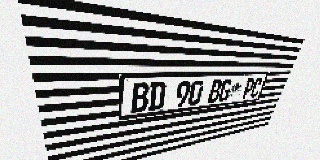0: (187, 80, 204, 106)
9: (174, 81, 192, 108)
B: (131, 82, 150, 113), (207, 79, 223, 103)
C: (249, 78, 264, 98)
D: (148, 82, 167, 111)
G: (217, 79, 233, 102)
P: (241, 78, 256, 99)
